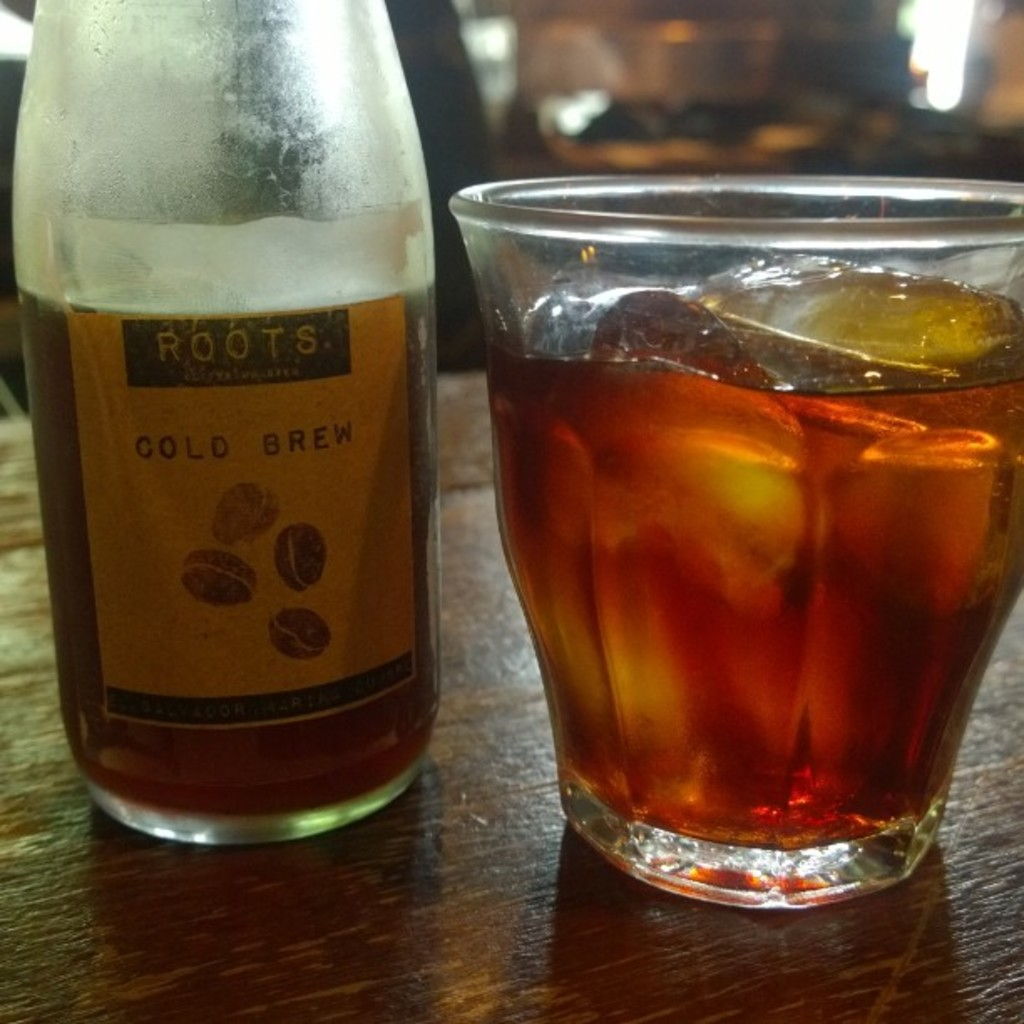Beer: (483, 264, 1022, 883), (18, 274, 441, 853)
